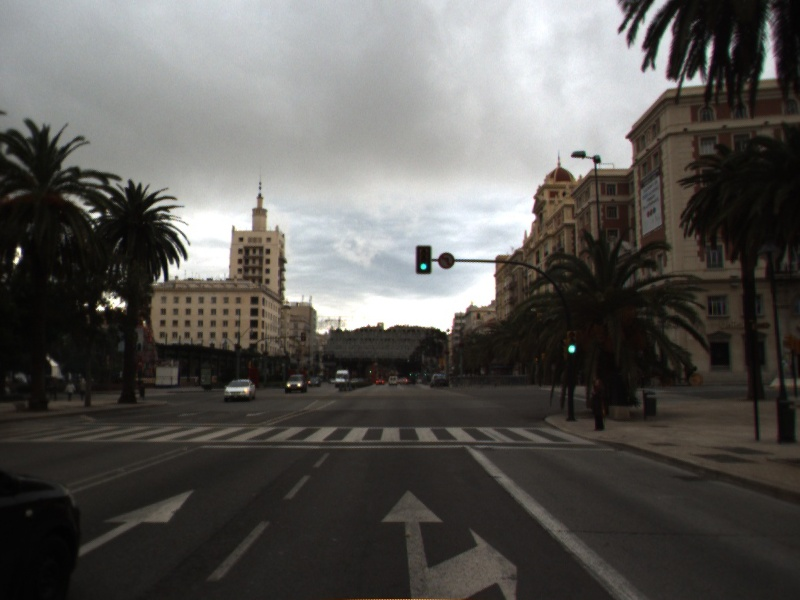STRAIGHT: (76, 488, 197, 558)
STRAIGHT_RIGHT: (379, 488, 519, 600)
